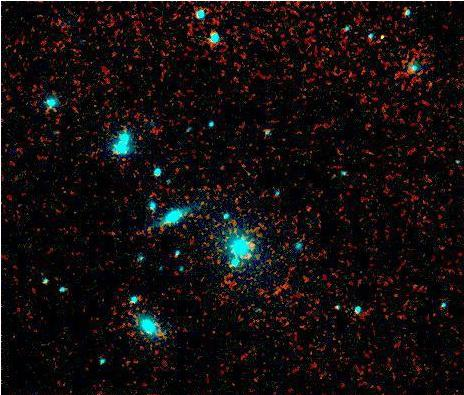star: (365, 21, 395, 51)
